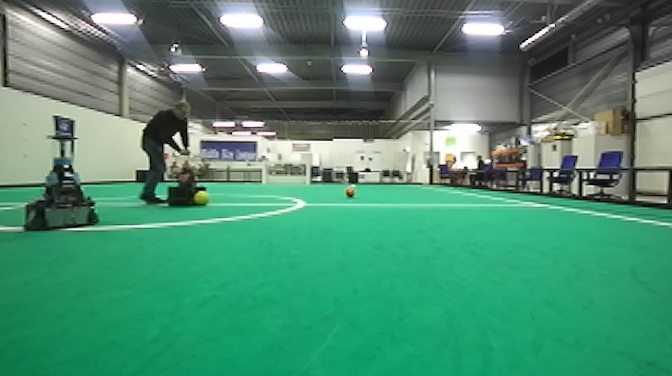ball: (190, 187, 212, 208), (342, 184, 357, 201)
goal: (261, 162, 309, 187)
goalpost: (260, 161, 267, 185), (305, 162, 310, 186)
human: (135, 99, 196, 208)
robot: (21, 113, 105, 235), (164, 147, 210, 211)
